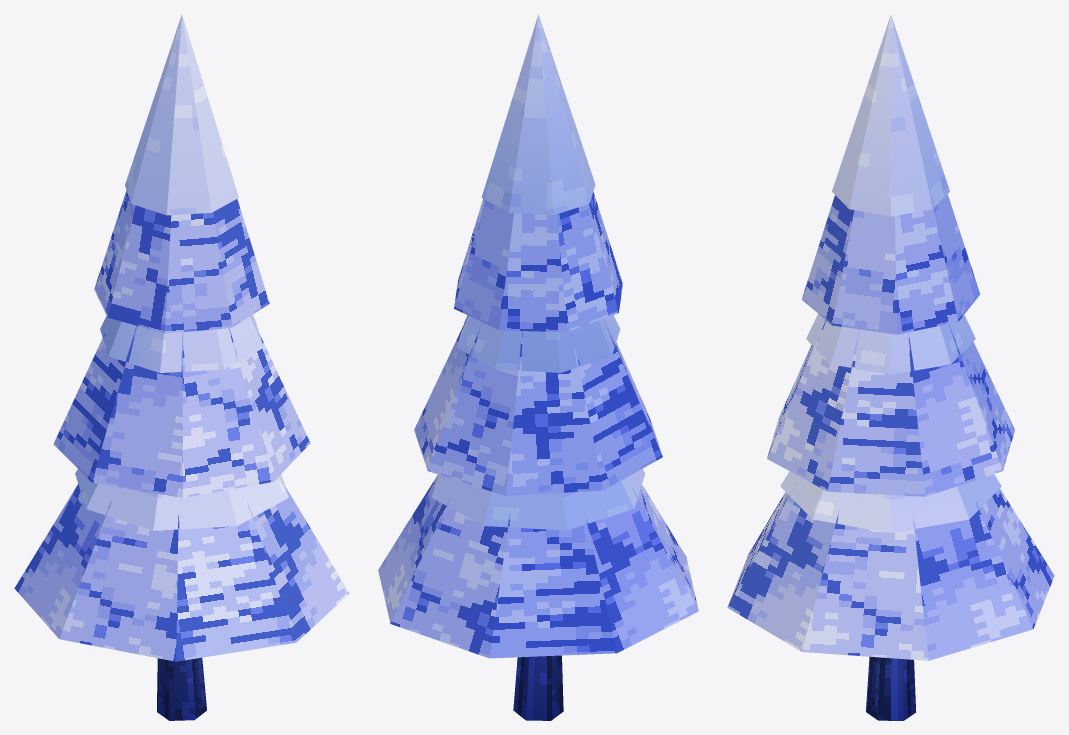
Rendered from nature.tree.glb.
3 renders of one model, left to right at view 1: azimuth 30°, elevation 25°; view 2: azimuth 150°, elevation 25°; view 3: azimuth 270°, elevation 25°, orthographic.
Visible parts, largest first — view 1: kit_canopy, kit_cap, kit_trunk; view 2: kit_canopy, kit_cap, kit_trunk; view 3: kit_canopy, kit_cap, kit_trunk.
Boxes of the visible parts, bbox=[...] form: kit_canopy: bbox=[14, 190, 349, 661]; kit_cap: bbox=[75, 14, 288, 530]; kit_trunk: bbox=[157, 657, 206, 720]; kit_canopy: bbox=[378, 192, 698, 658]; kit_cap: bbox=[431, 14, 645, 530]; kit_trunk: bbox=[513, 655, 563, 720]; kit_canopy: bbox=[727, 194, 1054, 660]; kit_cap: bbox=[780, 15, 1001, 532]; kit_trunk: bbox=[866, 656, 916, 720].
Size of the model in its own units: 2.34 by 5.51 by 2.34.
Materials: 3 (3 with a texture image).
